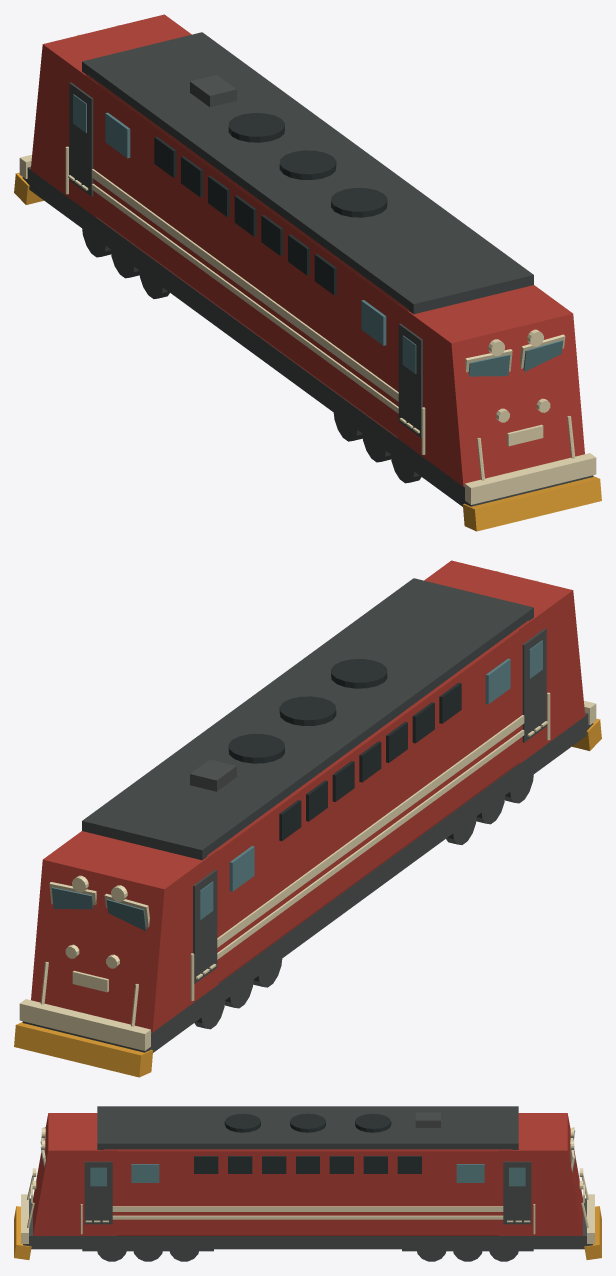
Rendered from nord-di-4_lod0.glb.
3 renders of one model, top to bottom at view 1: azimuth 30°, elevation 25°; view 2: azimuth 150°, elevation 25°; view 3: azimuth 270°, elevation 25°, orthographic. The views are drawn at different scales.
Visible parts, largest first — view 1: RF_Di4_Roof, RF_Di4_Body, RF_Di4_AngularCab.001, RF_Di4_Chassis, RF_Di4_AngularCab, RF_Di4_Plow.001, RF_Di4_CreamStripe.001, RF_Di4_BufferBeam.001, RF_Di4_CreamStripe.002, RF_Di4_CabDoor.001, RF_Di4_CabDoor.002, RF_Di4_RoofFan.002 (+12 smaller); view 2: RF_Di4_Roof, RF_Di4_Body, RF_Di4_AngularCab, RF_Di4_Chassis, RF_Di4_AngularCab.001, RF_Di4_Plow, RF_Di4_CreamStripe.001, RF_Di4_BufferBeam, RF_Di4_CreamStripe.002, RF_Di4_CabDoor.002, RF_Di4_CabDoor.001, RF_Di4_RoofFan.002 (+12 smaller); view 3: RF_Di4_Body, RF_Di4_Roof, RF_Di4_Chassis, RF_Di4_AngularCab.001, RF_Di4_AngularCab, RF_Di4_CreamStripe.003, RF_Di4_CreamStripe, RF_Di4_CabDoor.003, RF_Di4_CabDoor, RF_Di4_RoofFan.001, RF_Di4_RoofFan, RF_Di4_RoofFan.002 (+22 smaller).
Boxes of the visible parts, x1,y1,x2,y2 form: RF_Di4_Roof: [82, 32, 533, 314]; RF_Di4_Body: [86, 74, 409, 443]; RF_Di4_AngularCab.001: [397, 285, 584, 486]; RF_Di4_Chassis: [22, 166, 593, 506]; RF_Di4_AngularCab: [30, 14, 191, 217]; RF_Di4_Plow.001: [462, 476, 601, 531]; RF_Di4_CreamStripe.001: [91, 169, 398, 401]; RF_Di4_BufferBeam.001: [465, 453, 596, 504]; RF_Di4_CreamStripe.002: [91, 183, 398, 413]; RF_Di4_CabDoor.001: [398, 323, 422, 437]; RF_Di4_CabDoor.002: [69, 82, 93, 196]; RF_Di4_RoofFan.002: [279, 150, 336, 179]; RF_Di4_Roof: [82, 578, 533, 860]; RF_Di4_Body: [206, 620, 529, 989]; RF_Di4_AngularCab: [31, 831, 218, 1032]; RF_Di4_Chassis: [22, 712, 593, 1052]; RF_Di4_AngularCab.001: [424, 560, 585, 763]; RF_Di4_Plow: [14, 1022, 153, 1077]; RF_Di4_CreamStripe.001: [217, 715, 524, 947]; RF_Di4_BufferBeam: [19, 999, 150, 1050]; RF_Di4_CreamStripe.002: [217, 729, 524, 959]; RF_Di4_CabDoor.002: [193, 869, 217, 983]; RF_Di4_CabDoor.001: [522, 628, 546, 742]; RF_Di4_RoofFan.002: [279, 696, 336, 725]; RF_Di4_Body: [101, 1149, 514, 1235]; RF_Di4_Roof: [97, 1106, 518, 1149]; RF_Di4_Chassis: [23, 1198, 592, 1249]; RF_Di4_AngularCab.001: [33, 1113, 116, 1235]; RF_Di4_AngularCab: [499, 1113, 582, 1235]; RF_Di4_CreamStripe.003: [112, 1206, 503, 1211]; RF_Di4_CreamStripe: [112, 1215, 503, 1219]; RF_Di4_CabDoor.003: [84, 1161, 112, 1224]; RF_Di4_CabDoor: [503, 1161, 531, 1224]; RF_Di4_RoofFan.001: [224, 1113, 260, 1132]; RF_Di4_RoofFan: [355, 1113, 391, 1132]; RF_Di4_RoofFan.002: [290, 1113, 325, 1132].
Size of the model in its own units: 3.38 by 4.94 by 20.78.
